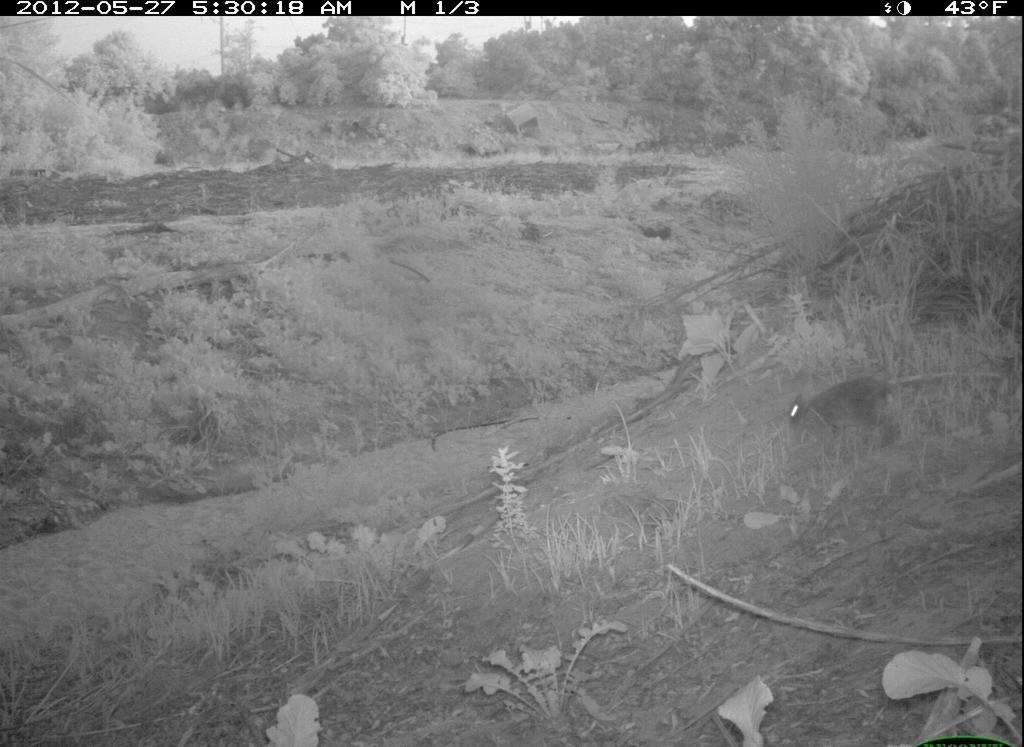rabbit: (786, 370, 912, 459)
